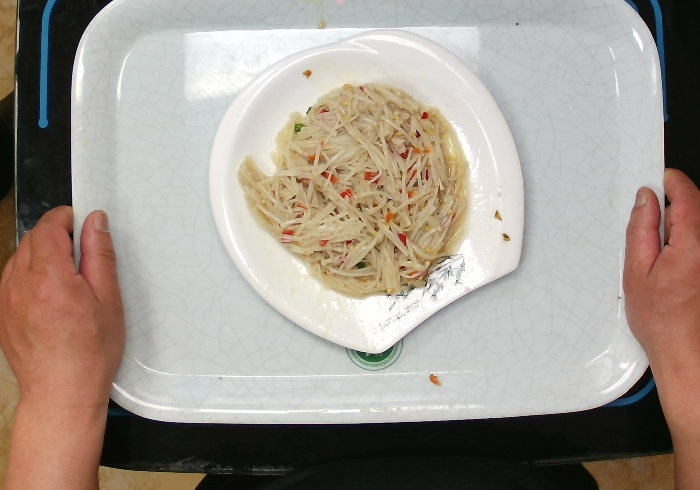JYsf-Mian_Pan: (209, 26, 529, 355)
